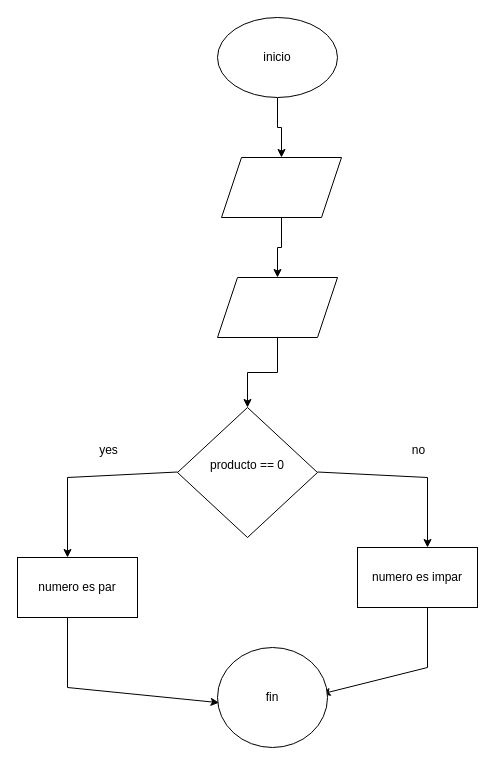
Some shapes in this 495 by 765 pixel diagram are drawn without their labels. Each missing label, with the centre of its shape:
numero entero: (x=281, y=187)
producto % 2: (x=277, y=307)
